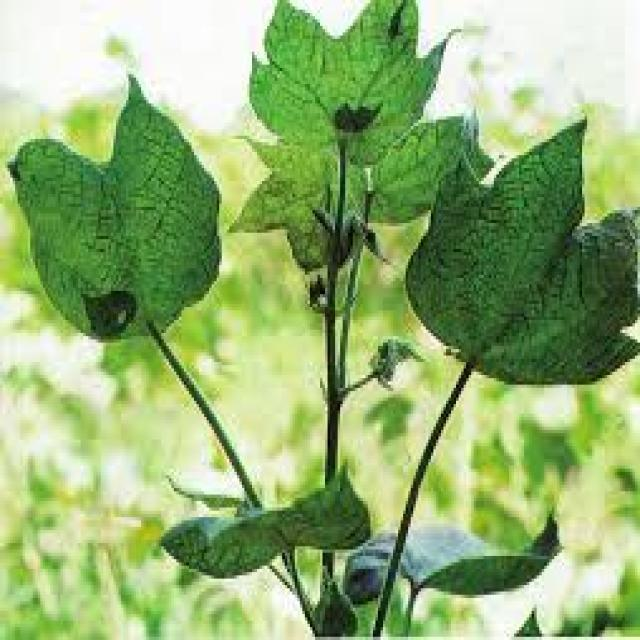Leaf Curl Virus: (78, 90, 584, 409)
